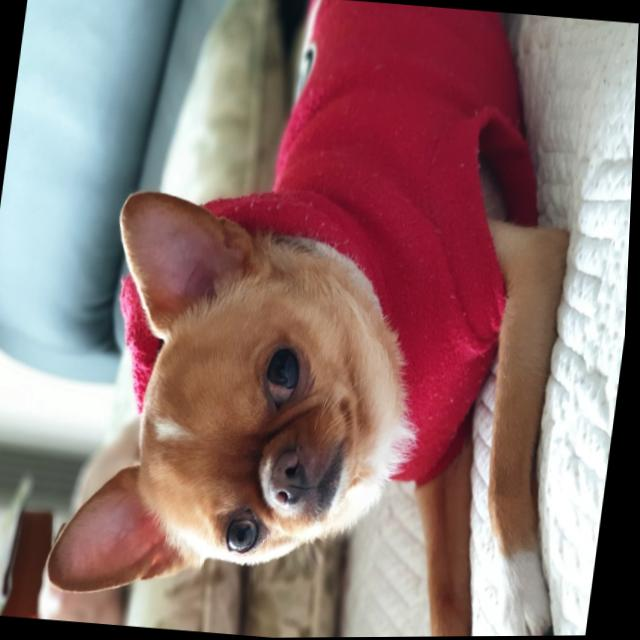dog-chihuahua: (38, 179, 388, 617)
